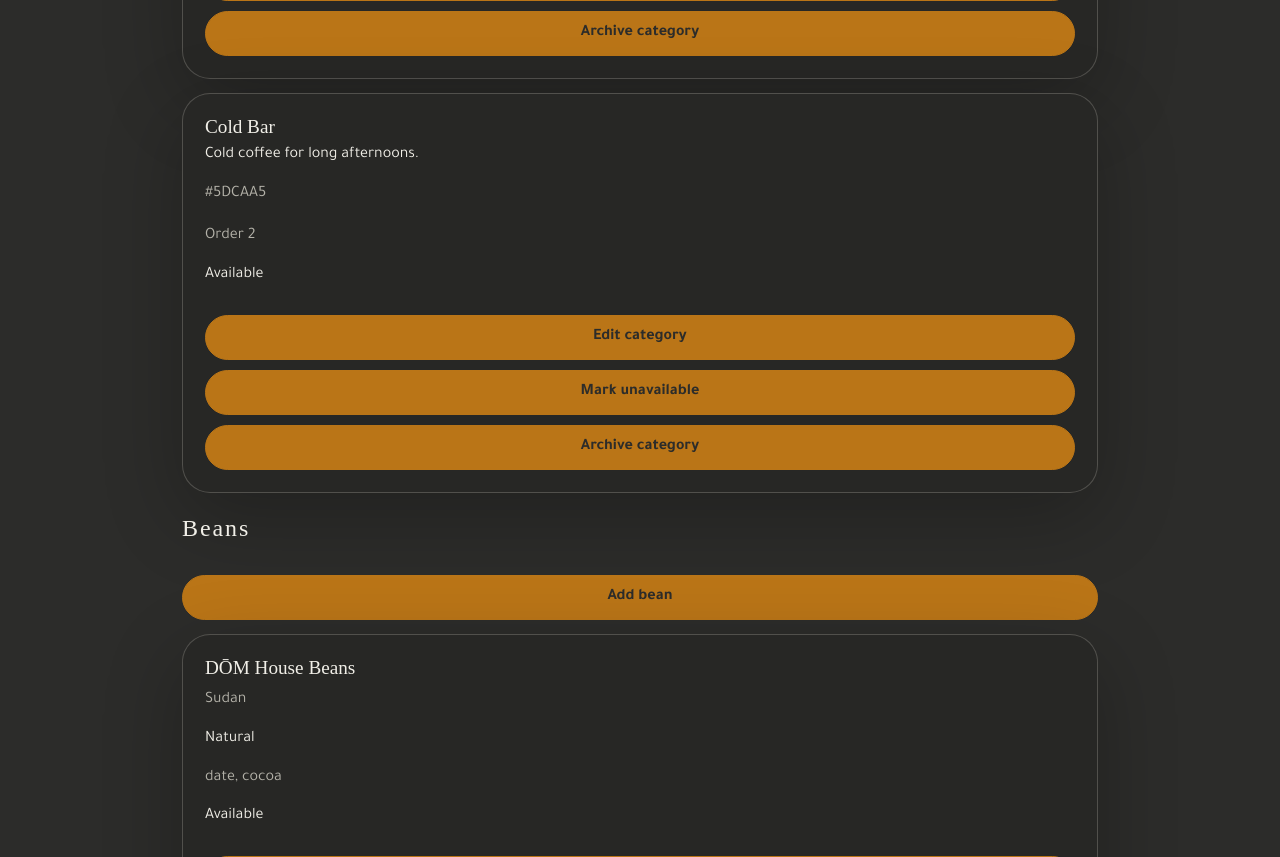
Phase 4 admin menu management page › archives catalog items from the menu page without hard delete wording
This screenshot has width=1280, height=857.
(page scrolled)
Click the button "Archive category" below "#5DCAA5" at (640, 447), box [205, 424, 1075, 470]
(page scrolled)
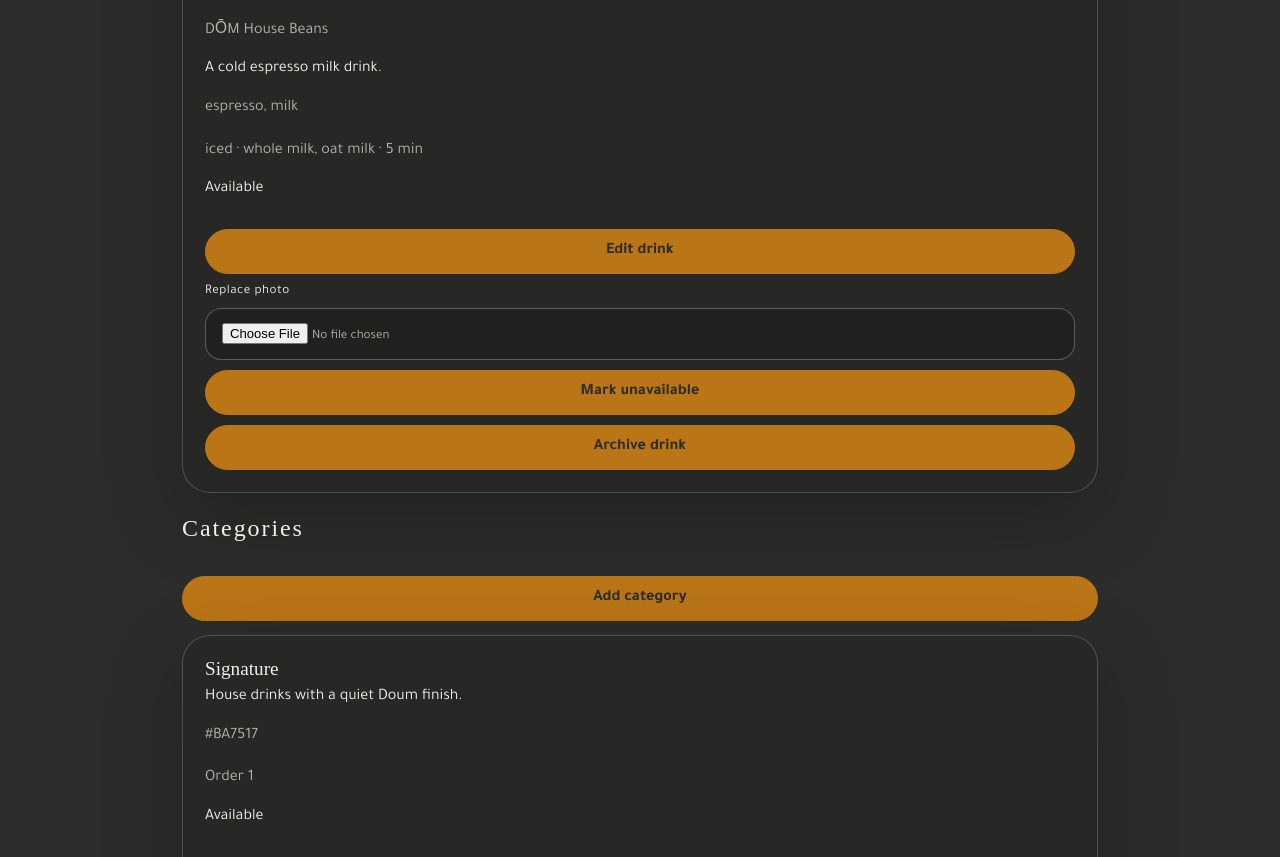
Click the button "Archive drink" at (640, 448), box [205, 425, 1075, 470]
(page scrolled)
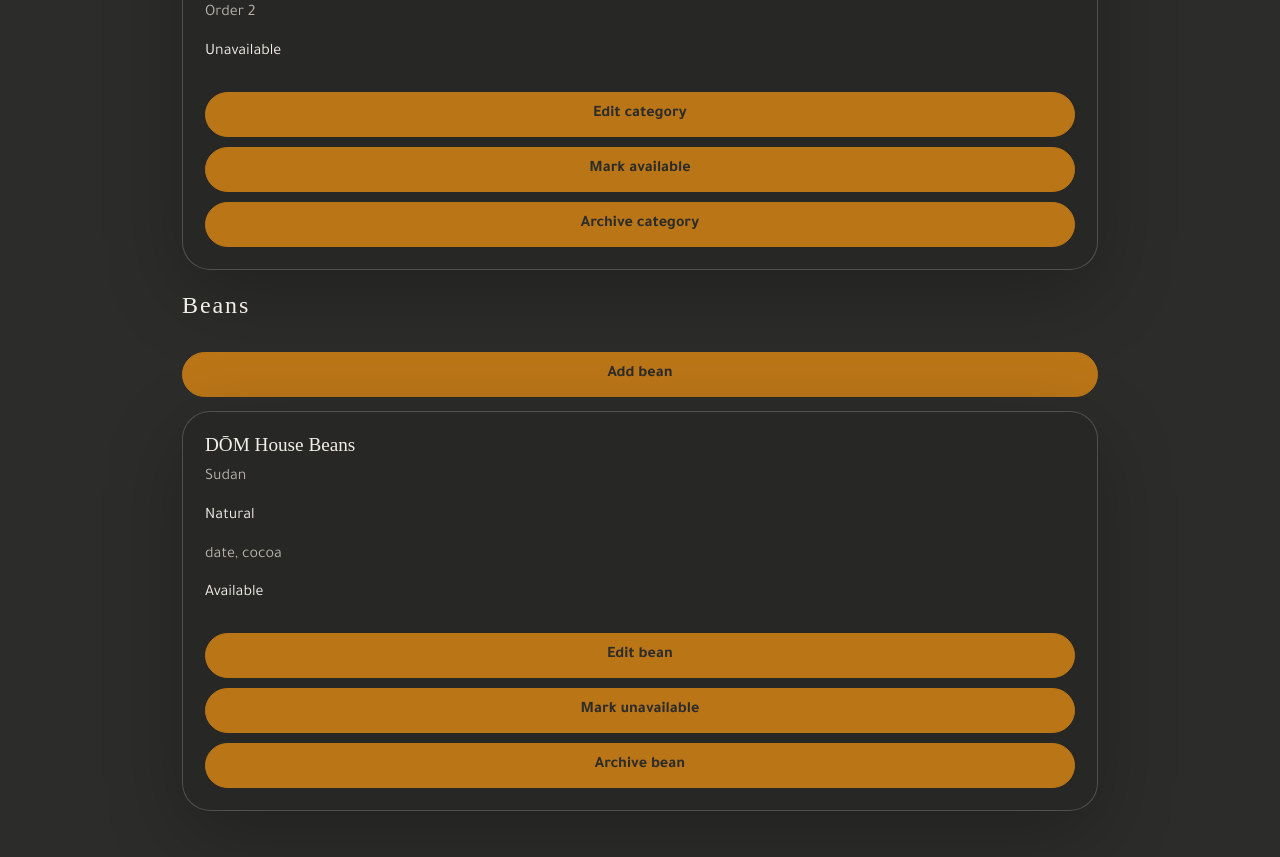
Click the button "Archive bean" at (640, 766), box [205, 743, 1075, 788]
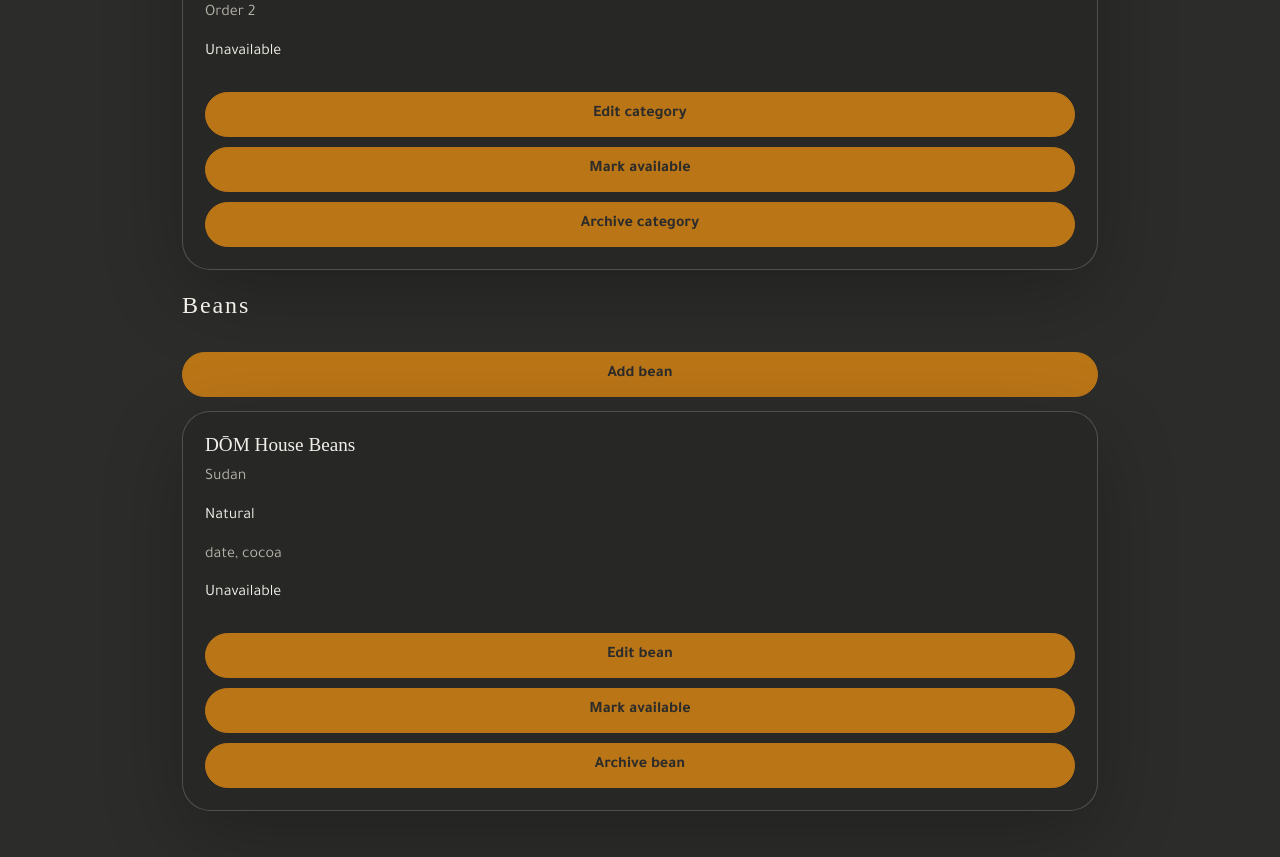
Check: the text "Unavailable" below "date, cocoa" is shown, box [205, 585, 281, 601]
